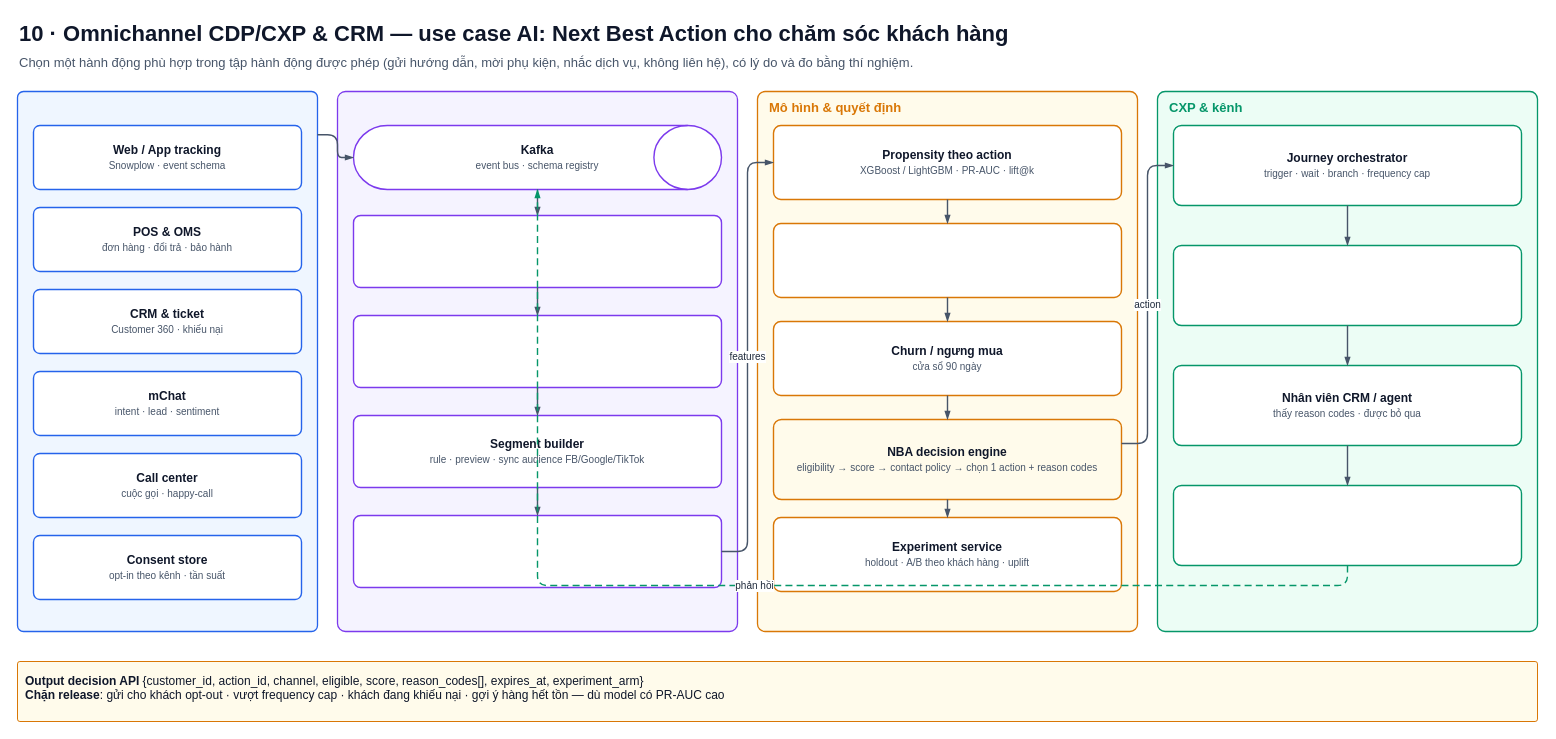
Image size: 1556x739. Some labels were removed from this diagram. Here are the shapes that lost their labels. From the top down, the box of each, then its label:
(352, 214, 722, 288): Identity resolution deterministic: SĐT/email đã xác thực · không merge theo tên
(772, 222, 1122, 298): Product affinity co-purchase · implicit ALS
(1172, 244, 1522, 326): Channel adapters ZNS · SMS · email · push · gợi ý trong mChat · task CRM
(16, 90, 318, 632): Nguồn & thu thập
(352, 314, 722, 388): Unified profile / Customer 360 ClickHouse (hành vi) + PostgreSQL (hồ sơ)
(336, 90, 738, 632): CDP
(1172, 484, 1522, 566): Outcome events mở · click · mua · opt-out · khiếu nại
(352, 514, 722, 588): Feature pipeline dbt · feature lấy trước thời điểm quyết định
